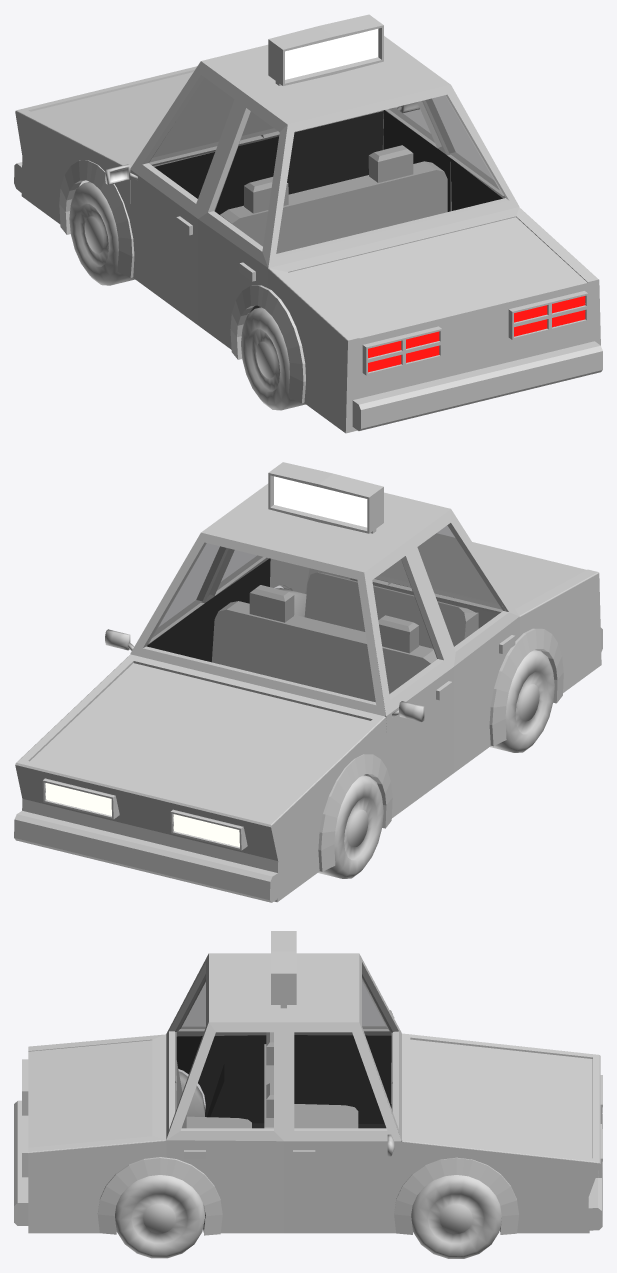
Rendered from taxi.glb.
3 views of the same model, one above another, from view 1: azimuth 30°, elevation 25°; view 2: azimuth 150°, elevation 25°; view 3: azimuth 270°, elevation 25° (orthographic). The views are drawn at different scales.
Parts seen in each view (by area): view 1: bodyCar, bodyCar.001, Trank, CarHood, Flaps, WheelL-F, WheelsBack; view 2: bodyCar, bodyCar.001, CarHood, Trank, Flaps, WheelsBack, WheelL-F; view 3: bodyCar, bodyCar.001, CarHood, Trank, Flaps, WheelsBack, WheelR-F, hundleDoor.
Boxes of the visible parts, <box> form: bodyCar: <box>14,14,602,433</box>; bodyCar.001: <box>149,78,504,253</box>; Trank: <box>289,217,588,380</box>; CarHood: <box>31,72,273,163</box>; Flaps: <box>59,160,305,403</box>; WheelL-F: <box>69,182,134,285</box>; WheelsBack: <box>241,307,305,410</box>; bodyCar: <box>14,462,602,902</box>; bodyCar.001: <box>147,525,502,701</box>; CarHood: <box>30,663,370,818</box>; Trank: <box>379,533,586,608</box>; Flaps: <box>279,584,563,871</box>; WheelsBack: <box>275,588,554,752</box>; WheelL-F: <box>318,775,383,878</box>; bodyCar: <box>14,931,602,1233</box>; bodyCar.001: <box>175,974,392,1127</box>; CarHood: <box>410,1039,592,1158</box>; Trank: <box>22,1040,152,1177</box>; Flaps: <box>97,1069,518,1235</box>; WheelsBack: <box>115,1071,204,1258</box>; WheelR-F: <box>411,1175,501,1258</box>; hundleDoor: <box>184,1150,315,1159</box>.
Size of the model in its own units: 4.94 by 4.36 by 9.21.
